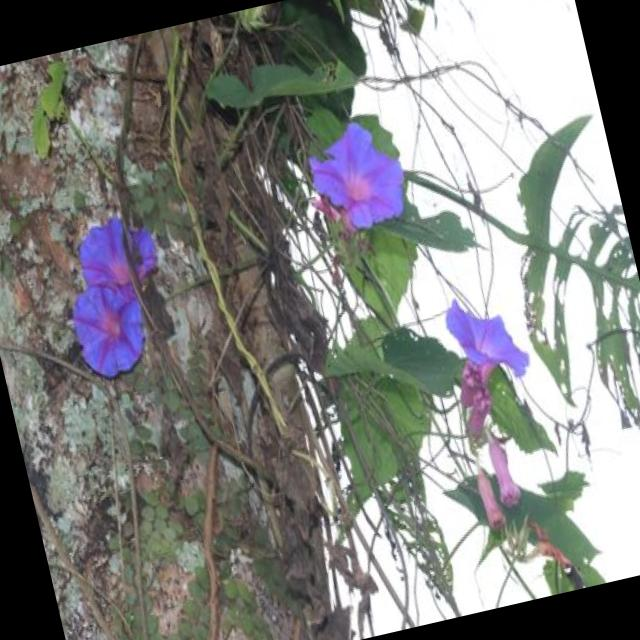ipomoea: (45, 203, 186, 390), (296, 108, 419, 248), (437, 280, 536, 397), (66, 203, 170, 314), (60, 272, 157, 388)
